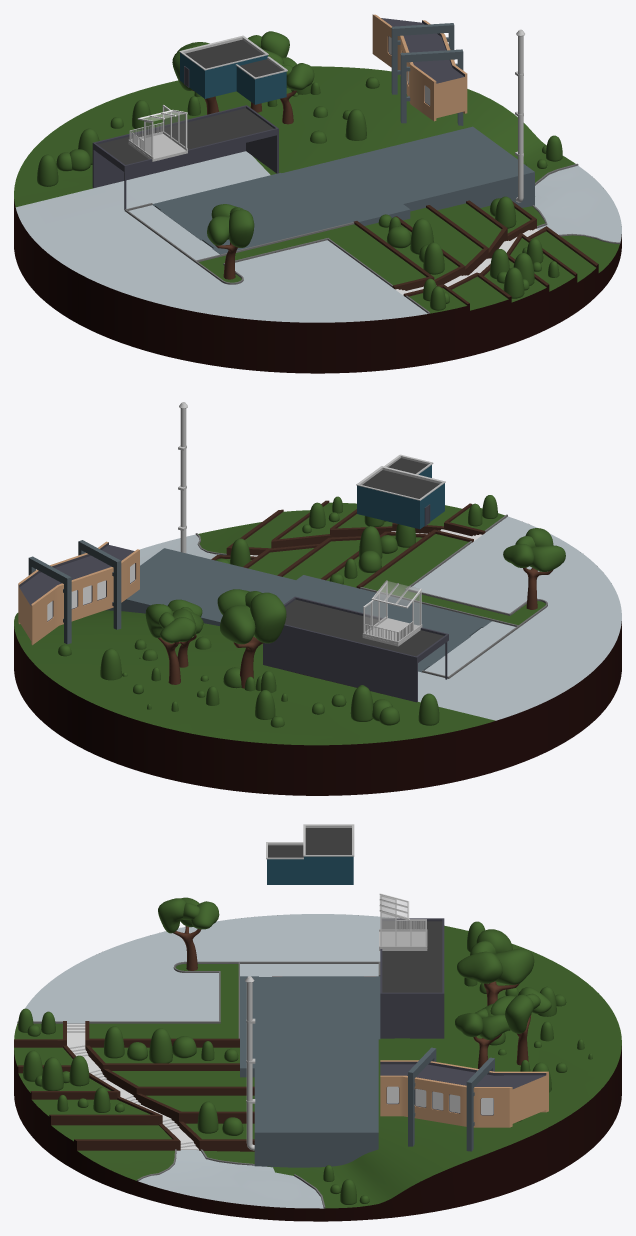
Rendered from building_exterior.glb.
3 views of the same model, one above another, from view 1: azimuth 30°, elevation 25°; view 2: azimuth 150°, elevation 25°; view 3: azimuth 270°, elevation 25° (orthographic).
Parts seen in each view (by area): view 1: Boden, Fundament, Dachausgang, Durchgang, bushes.001, Tree.003, bushes, bushes.004, Balkon Dach, Durchgang Stangen, Durchgang Stangen.001, Tree.002 (+9 smaller); view 2: Boden, Fundament, Durchgang, bushes.001, Dachausgang, Tree, Tree.003, Tree.001, bushes, Balkon Dach, Schornstein, Durchgang Stangen (+5 smaller); view 3: Boden, Fundament, Durchgang, Dachausgang, Tree, bushes, Tree.003, bushes.001, Balkon Dach, Tree.001, bushes.004, Treppe (+9 smaller).
Boxes of the visible parts, box(x1,y1,x2,y2) form: Boden: box(14, 66, 621, 373); Fundament: box(152, 126, 534, 254); Dachausgang: box(179, 35, 287, 104); Durchgang: box(372, 14, 467, 121); bushes.001: box(37, 63, 379, 186); Tree.003: box(207, 204, 254, 279); bushes: box(378, 214, 444, 274); bushes.004: box(490, 249, 534, 298); Balkon Dach: box(137, 105, 187, 156); Durchgang Stangen: box(400, 49, 463, 125); Durchgang Stangen.001: box(391, 23, 454, 94); Tree.002: box(275, 57, 314, 124); Boden: box(14, 500, 621, 795); Fundament: box(106, 548, 491, 672); Durchgang: box(18, 541, 139, 645); bushes.001: box(58, 636, 439, 727); Dachausgang: box(356, 454, 445, 529); Tree: box(217, 589, 286, 688); Tree.003: box(503, 528, 565, 609); Tree.001: box(145, 604, 196, 684); bushes: box(329, 524, 415, 584); Balkon Dach: box(363, 580, 421, 633); Schornstein: box(178, 402, 187, 553); Durchgang Stangen: box(78, 540, 121, 629); Boden: box(14, 914, 621, 1221); Fundament: box(240, 976, 380, 1167); Durchgang: box(380, 1060, 548, 1127); Dachausgang: box(266, 824, 354, 884); Tree: box(457, 929, 534, 1005); bushes: box(104, 1026, 238, 1063); Tree.003: box(158, 897, 219, 970); bushes.001: box(464, 921, 592, 1122); Balkon Dach: box(379, 893, 426, 946); Tree.001: box(490, 987, 551, 1065); bushes.004: box(23, 1050, 89, 1090); Treppe: box(67, 1023, 198, 1150).
Bounding box in the file's own units: 60.35 × 23 × 60.37.
